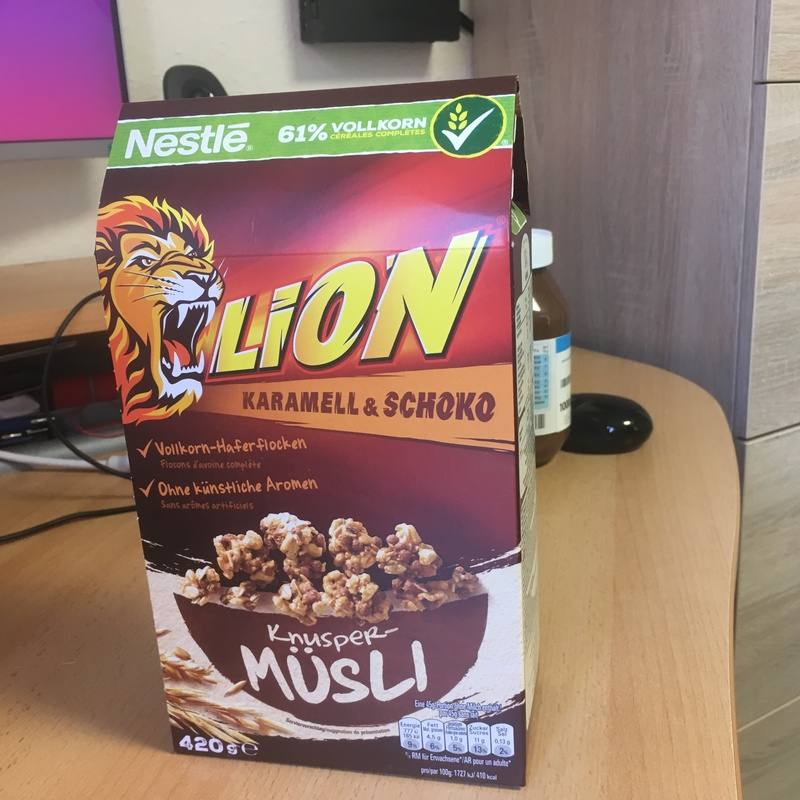cereals: (95, 76, 540, 794)
